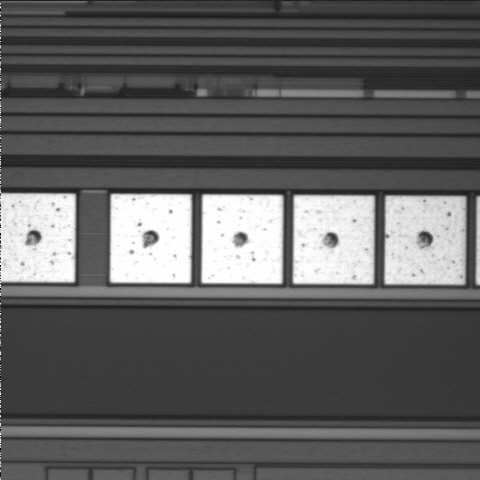pad: (110, 194, 192, 283), (201, 195, 283, 284), (293, 195, 374, 284), (385, 196, 465, 284)
